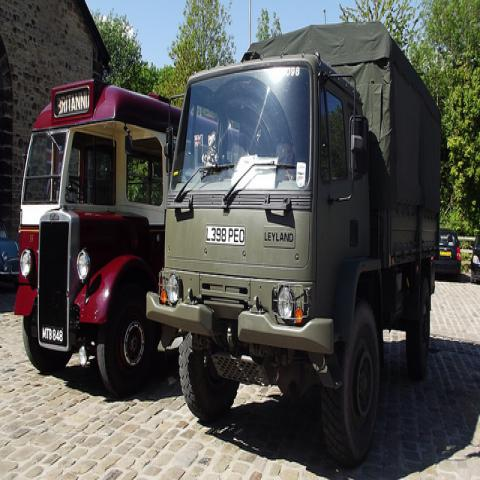bus: (13, 75, 182, 399)
car: (0, 219, 20, 292), (437, 229, 462, 279), (470, 234, 480, 285)
truck: (146, 22, 442, 469)
